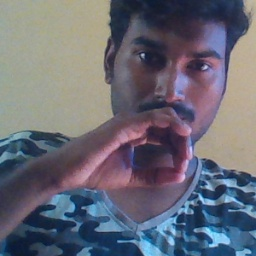O: (63, 109, 200, 190)
